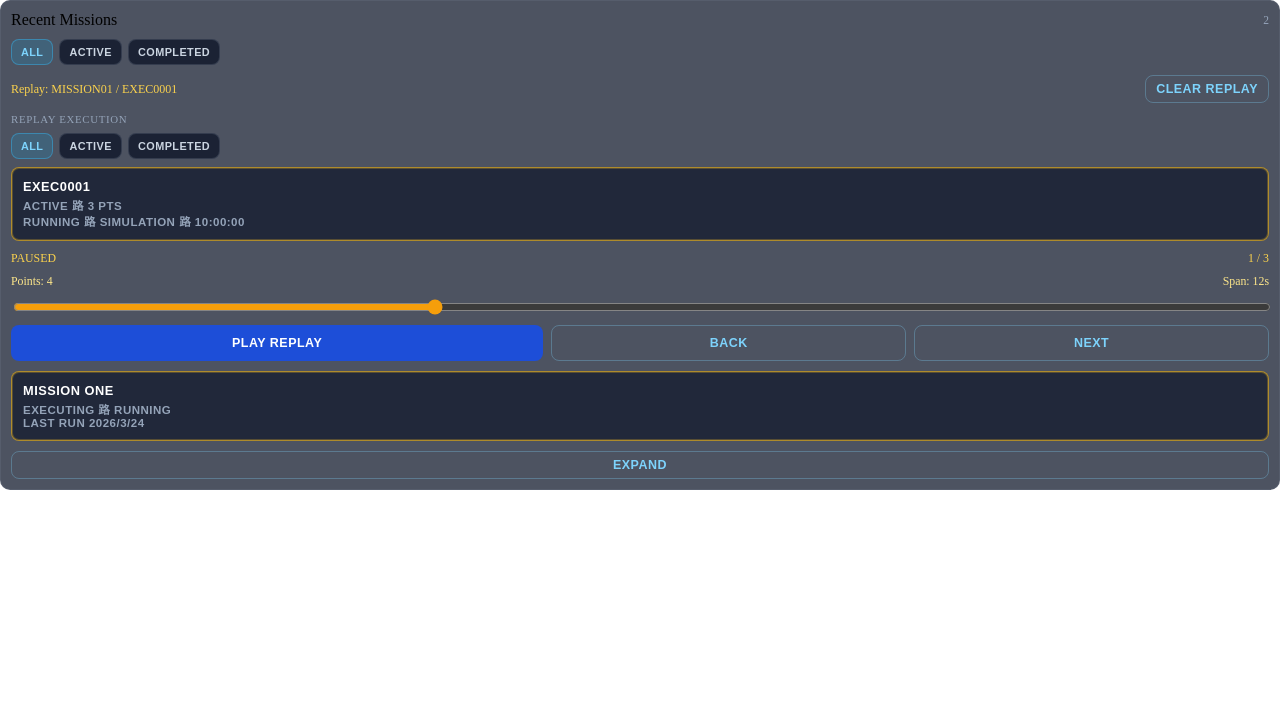
Test: MissionHistoryPanel › shows one mission by default and expands on demand
Expected: the number of buttons with class "history-item" is 1, [11,371,1269,441]
Click the button with class "history-toggle" at (640, 465), box [11,451,1269,479]
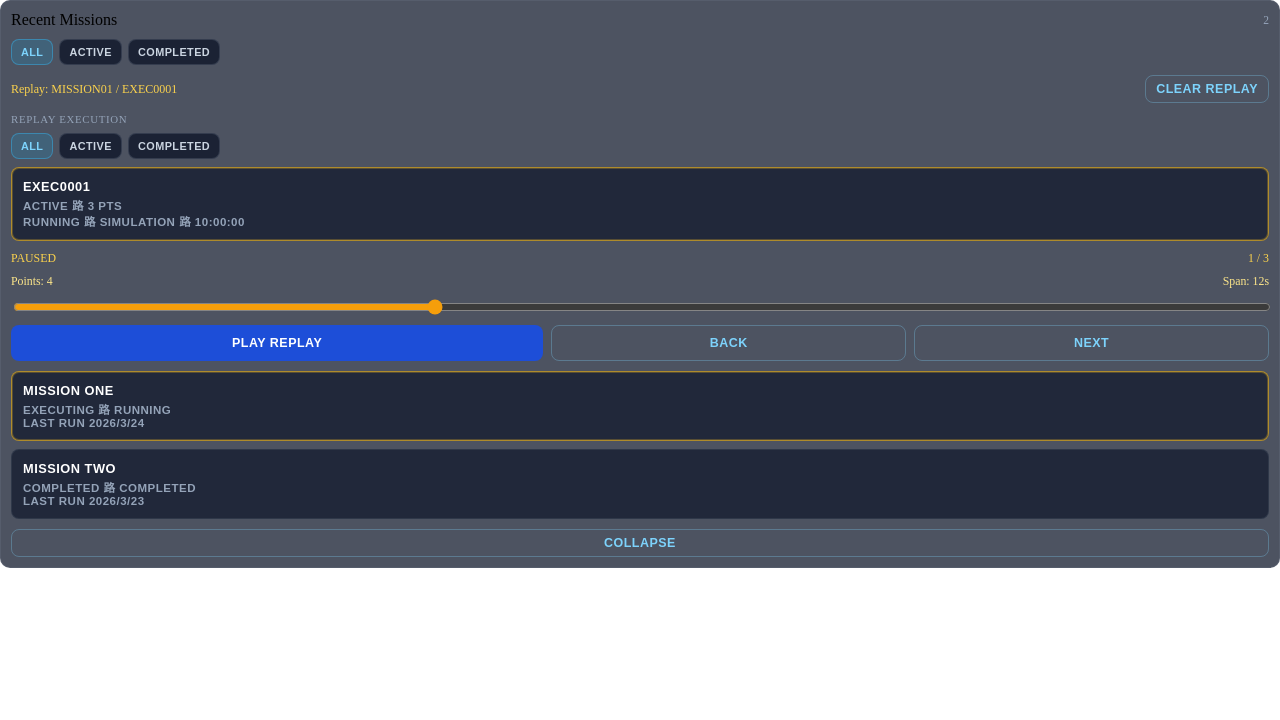
Now the number of buttons with class "history-item" is 2, box [11,371,1269,441]; [11,449,1269,519]
Now the text "COLLAPSE" is shown, box [11,529,1269,557]
